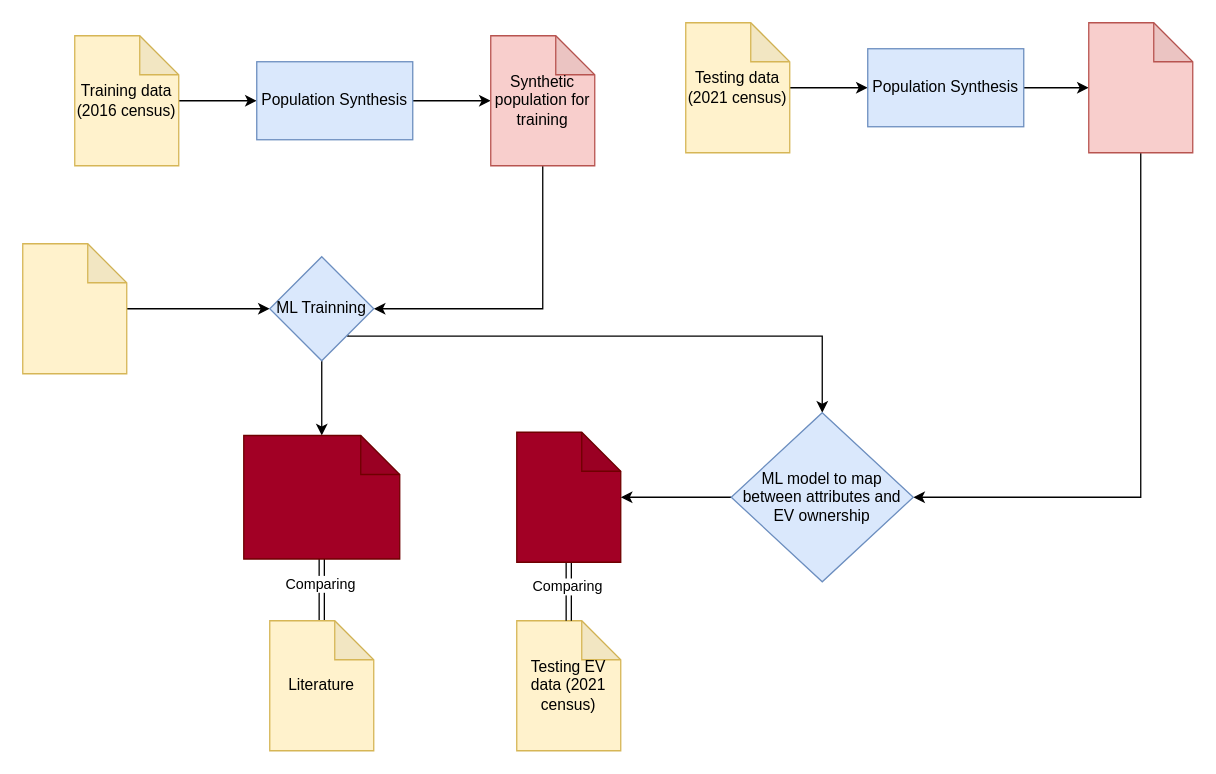
Some shapes in this 1216 by 774 pixel diagram are drawn without their labels. The shapes that lost their labels are listed below. From the top down, each one's centre as x and y in pixels, then its label:
At pixel 1140 87: "Synthetic population for testing".
At pixel 74 308: "Training EV data (2016 census)".
At pixel 321 496: "Connection between household's attributes and EV ownership".
At pixel 568 496: "Predicted EV data".
